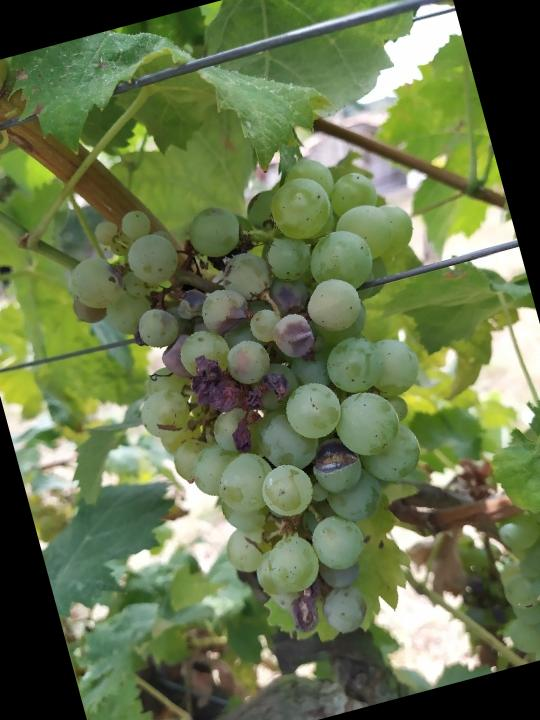grape: (50, 132, 514, 683)
